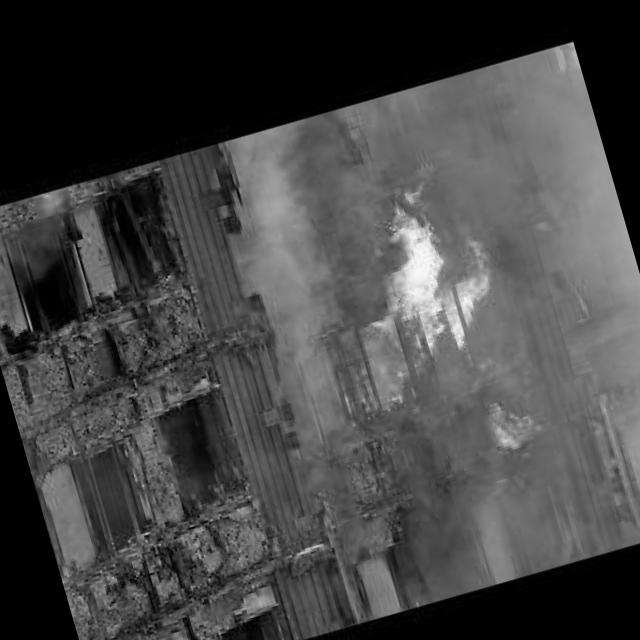fire: (293, 151, 526, 420)
